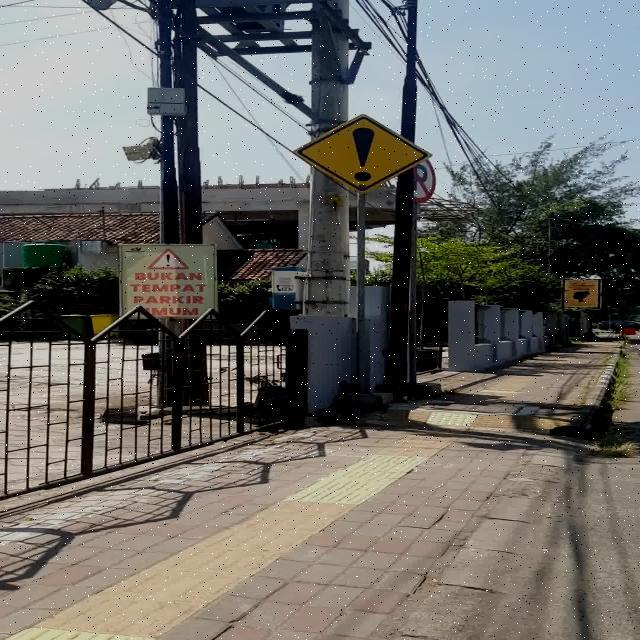Hati-Hati: (292, 114, 433, 192)
